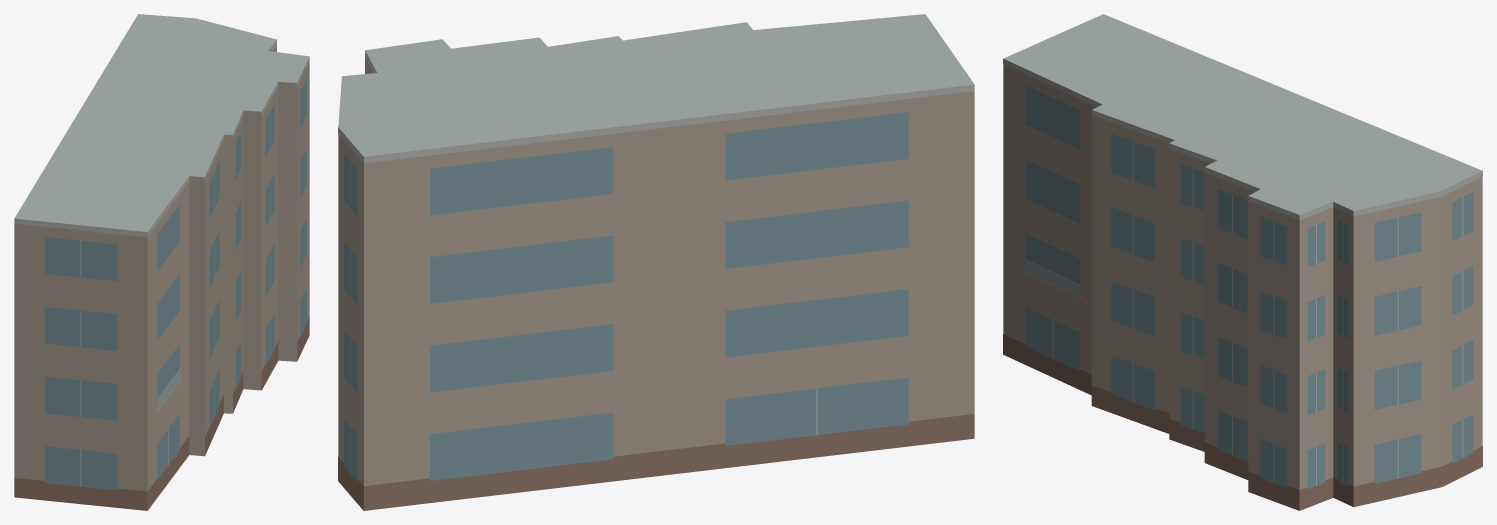
Rendered from survey-upis-32893775.glb.
3 renders of one model, left to right at view 1: azimuth 30°, elevation 25°; view 2: azimuth 150°, elevation 25°; view 3: azimuth 270°, elevation 25°, orthographic. The views are drawn at different scales.
Parts seen in each view (by area): view 1: survey-upis-32893775.tmp; view 2: survey-upis-32893775.tmp; view 3: survey-upis-32893775.tmp.
Boxes of the visible parts, box(x1,y1,x2,y2) form: survey-upis-32893775.tmp: box(14, 14, 309, 510); survey-upis-32893775.tmp: box(338, 14, 974, 510); survey-upis-32893775.tmp: box(1003, 14, 1482, 510).
Size of the model in its own units: 19.13 by 13.14 by 19.3.
